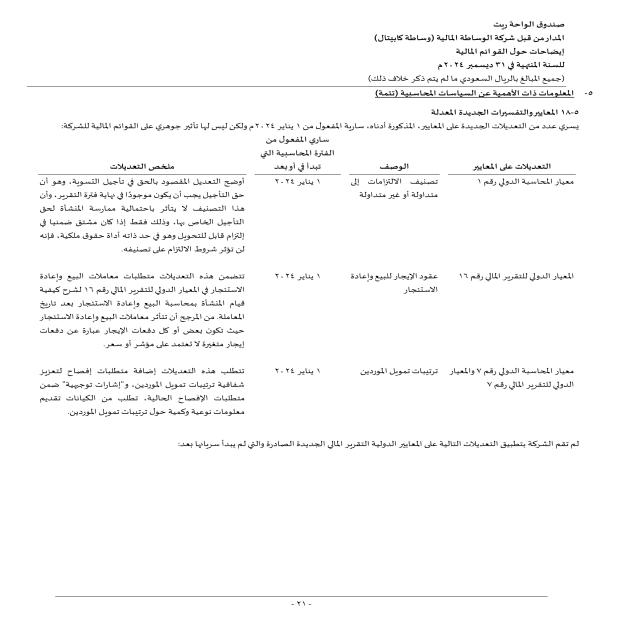notes: (434, 46, 569, 56)
table: (32, 142, 590, 427)
